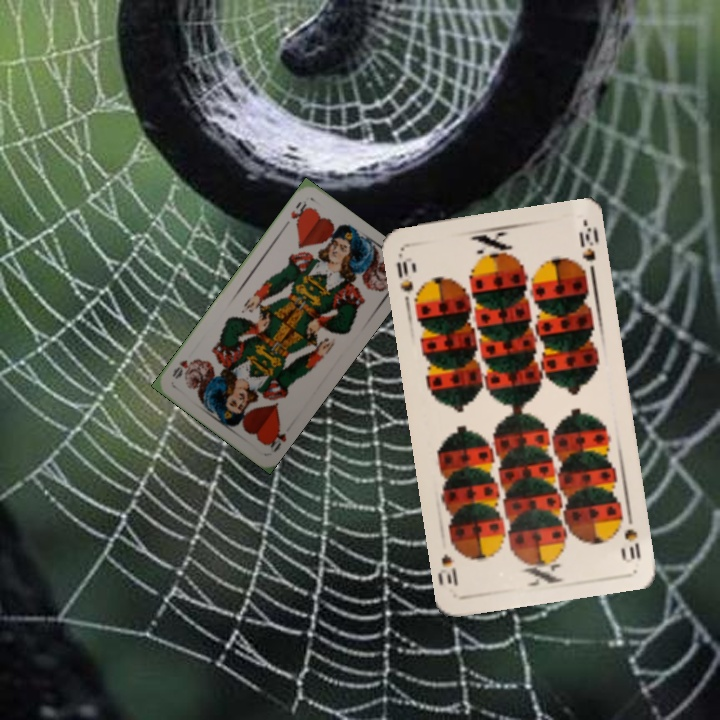HO: (279, 196, 312, 231), (262, 423, 289, 455)
S10: (620, 507, 643, 563), (392, 257, 416, 295)
